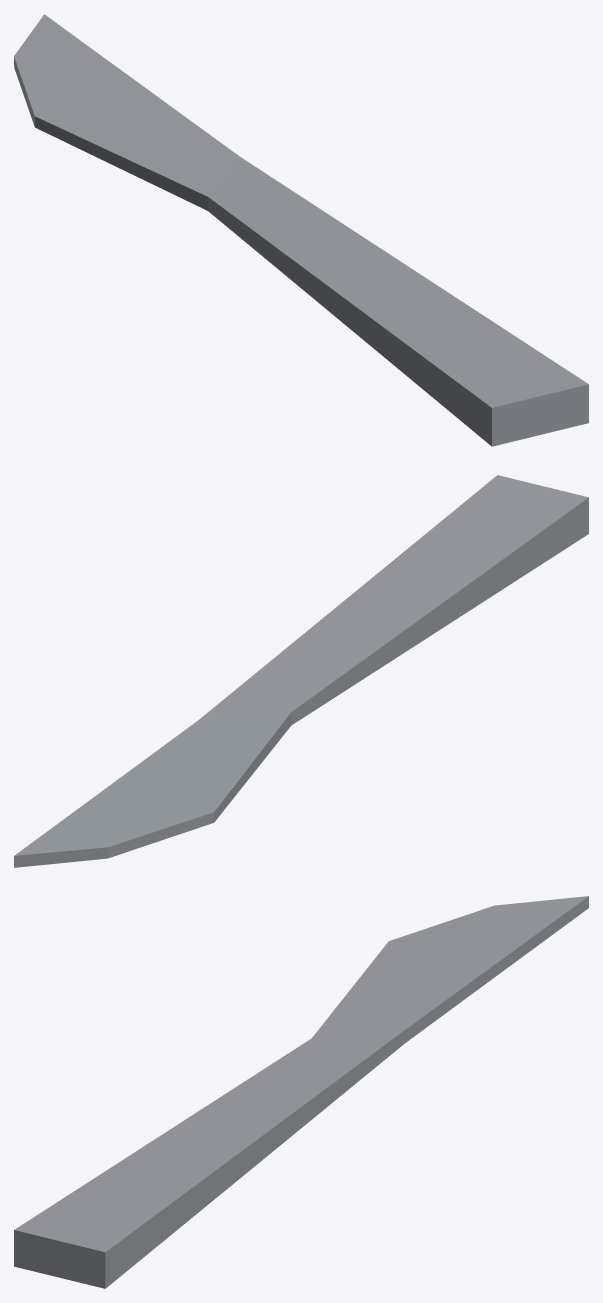
File: Spoon_2.fbx
3 views of the same model, one above another, from view 1: azimuth 30°, elevation 25°; view 2: azimuth 150°, elevation 25°; view 3: azimuth 330°, elevation 25° (orthographic). The views are drawn at different scales.
Visible parts, largest first — view 1: pCube559; view 2: pCube559; view 3: pCube559.
Boxes of the visible parts, <box> form: pCube559: <box>14,14,588,446</box>; pCube559: <box>14,475,588,867</box>; pCube559: <box>14,896,588,1288</box>.
Size of the model in its own units: 0.0342 by 0.01 by 0.247.
Materials: 1 (1 with a texture image).
